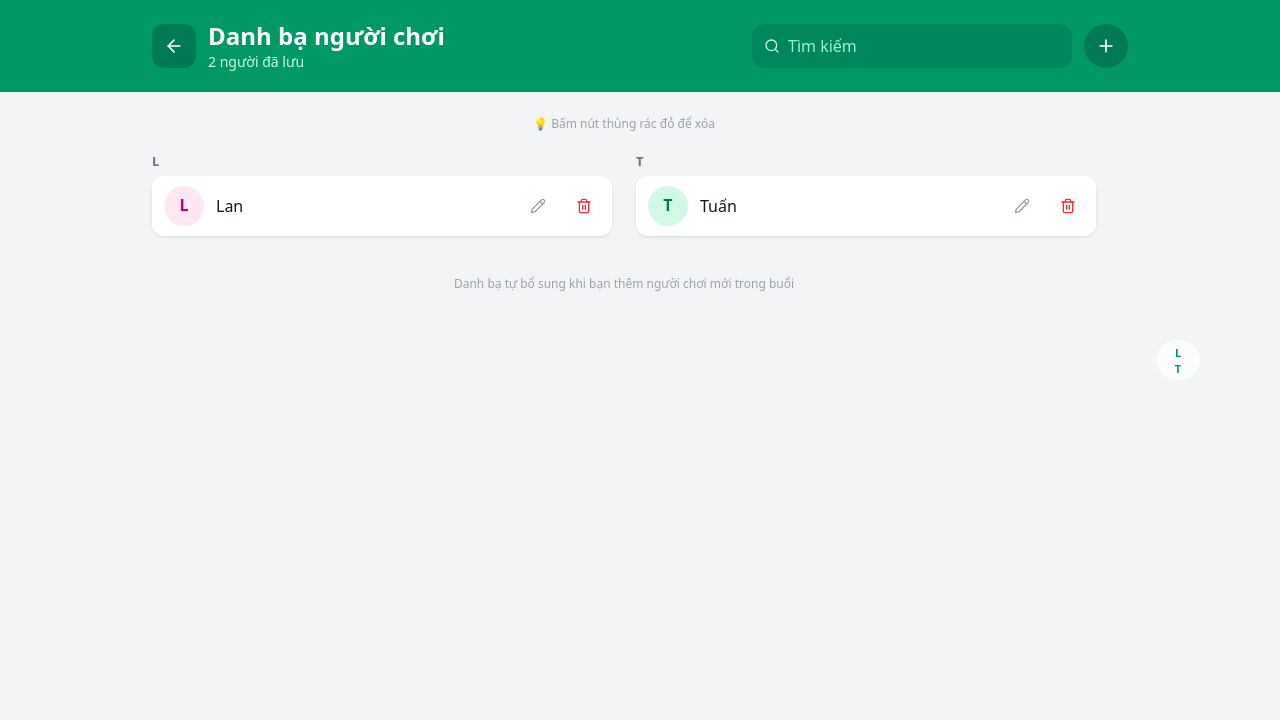
it: renames an entry via the edit drawer, blocking duplicates
This screenshot has width=1280, height=720.
Click the text "Tuấn" at (718, 206), box [700, 194, 737, 218]
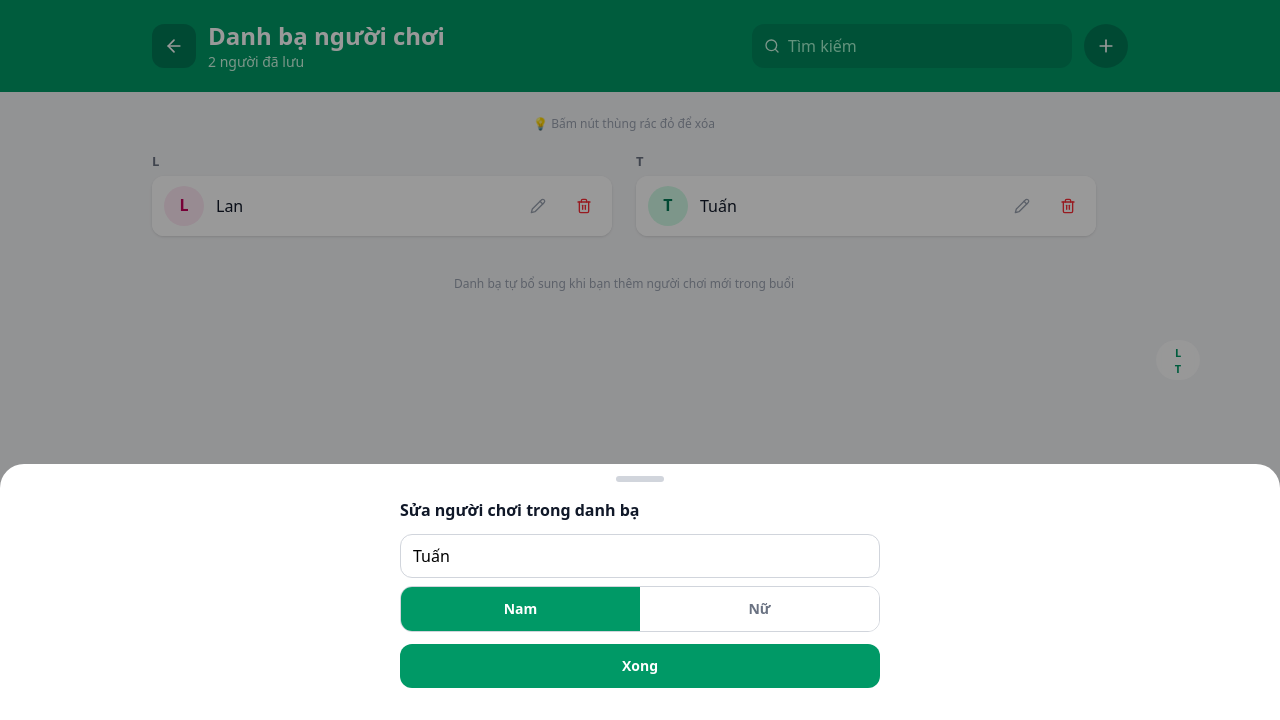
Replace the text in the field named "Tên của Tuấn" with "Nam Anh" at (640, 556), box [400, 534, 880, 578]
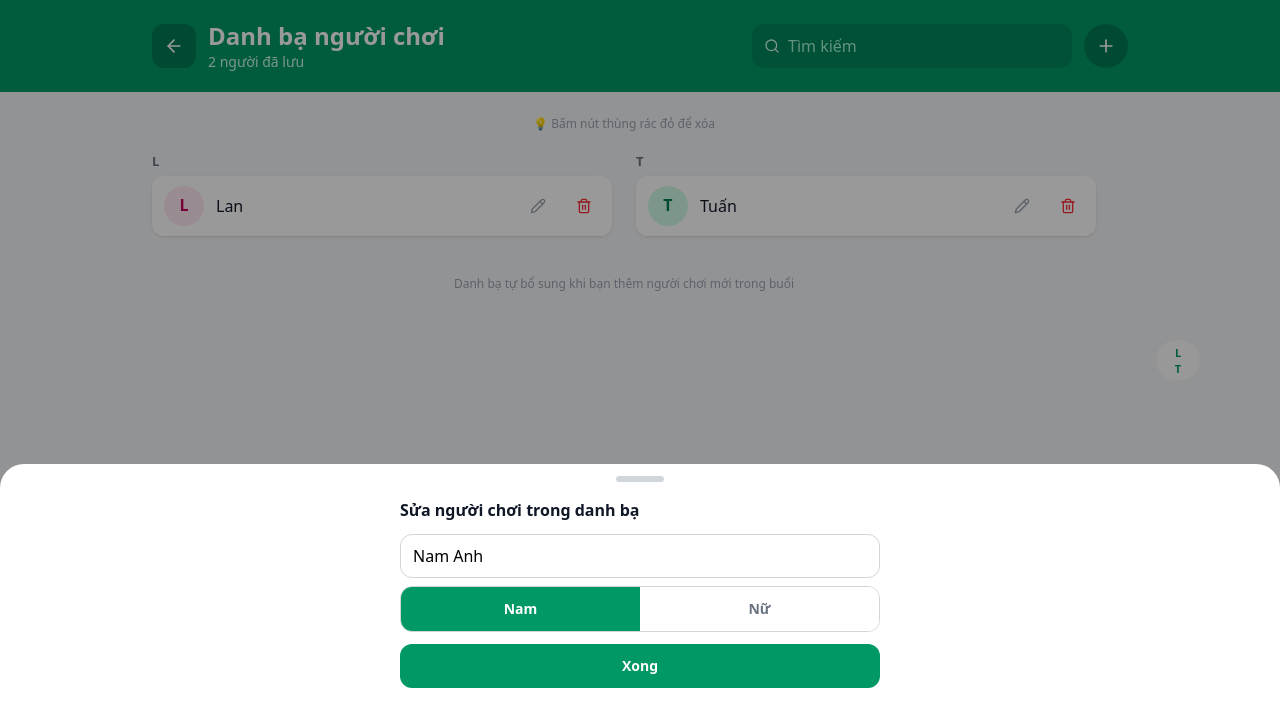
Leave the field named "Tên của Tuấn", box [400, 534, 880, 578]
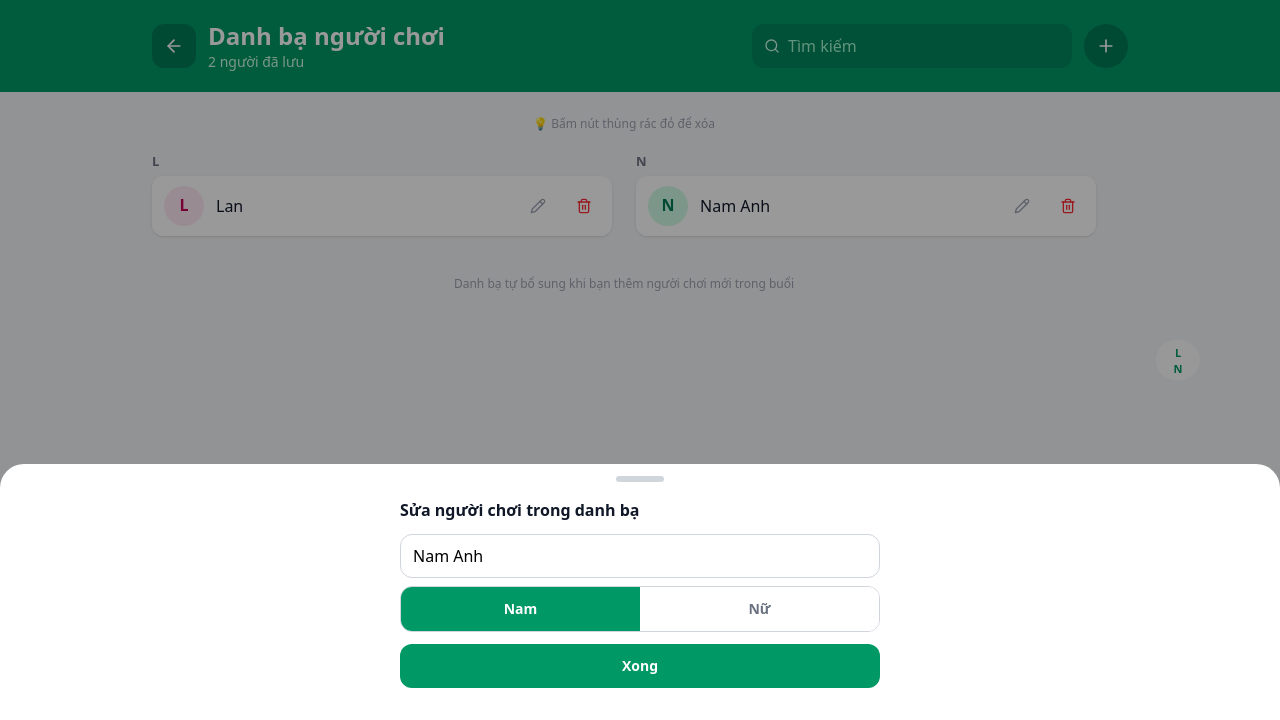
Result: the text "Nam Anh" is shown at [700, 194, 770, 218]
Result: the button "Tuấn" is gone
Replace the text in the field named "Tên của Tuấn" with "lan" at (640, 556), box [400, 534, 880, 578]
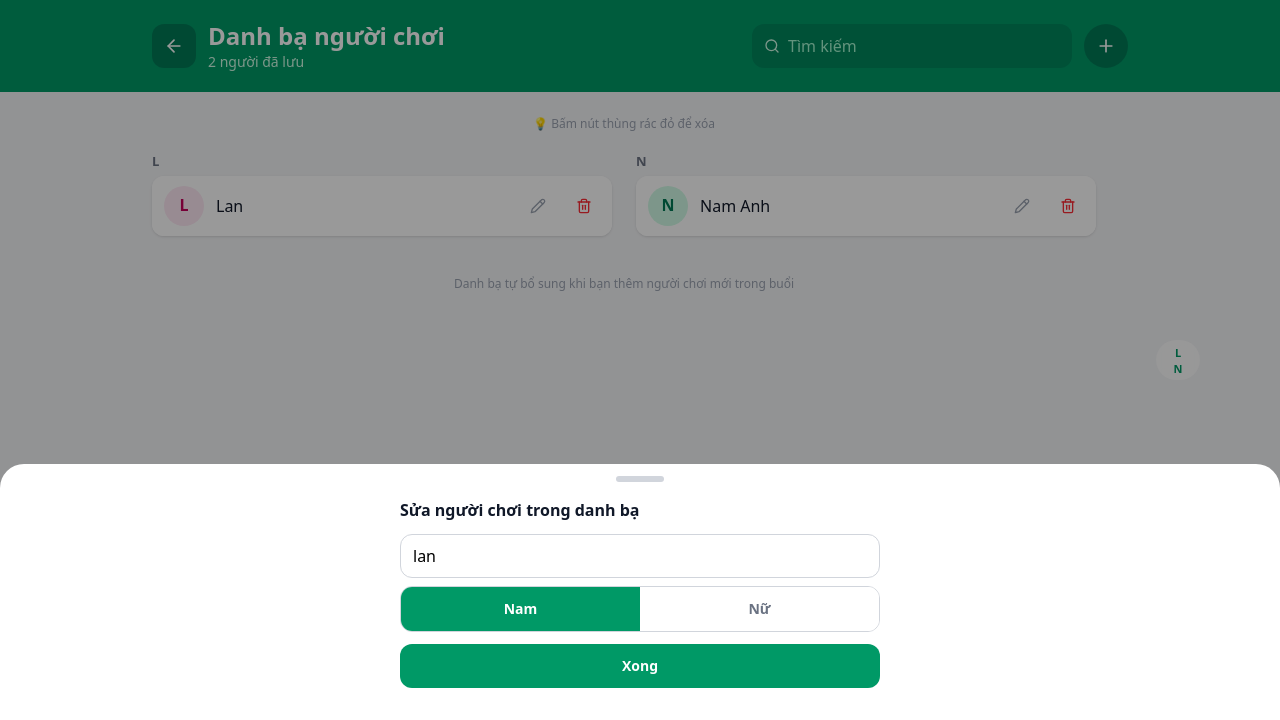
Leave the field named "Tên của Tuấn", box [400, 534, 880, 578]
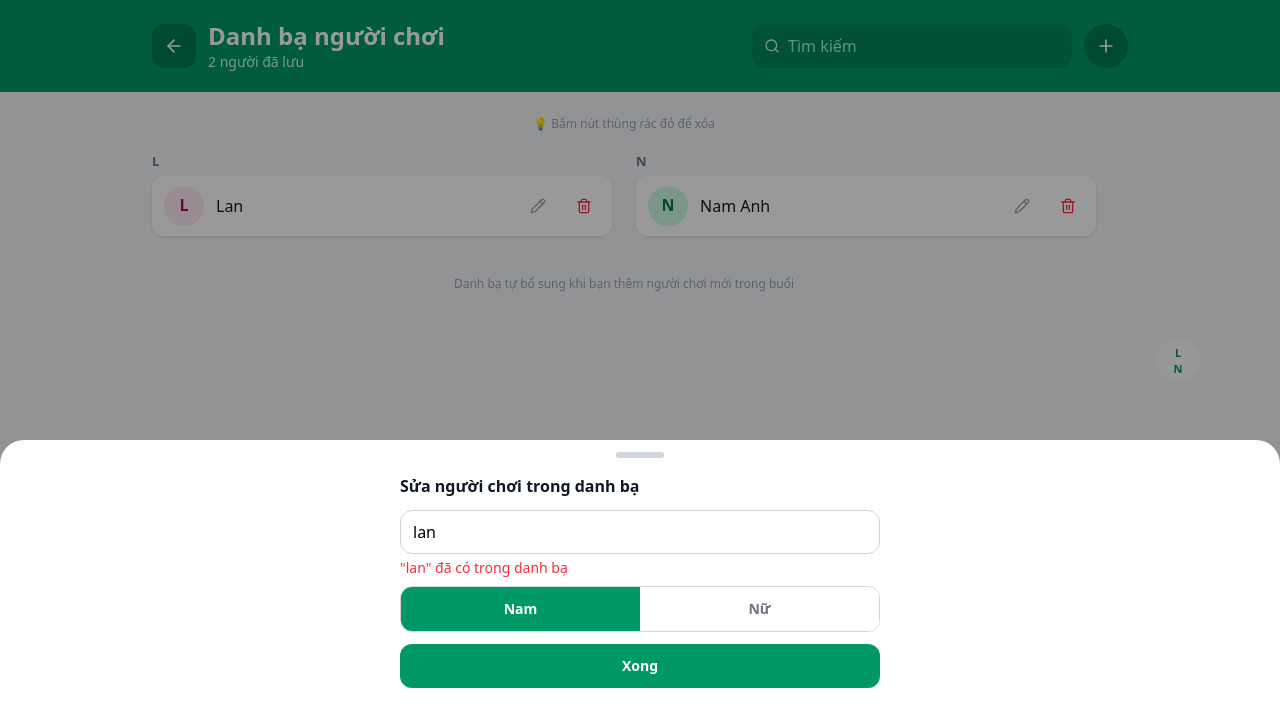
Result: the text "Nam Anh" is shown at [700, 194, 770, 218]
Result: the text "\"lan\" đã có trong danh bạ" is shown at [400, 558, 568, 577]
